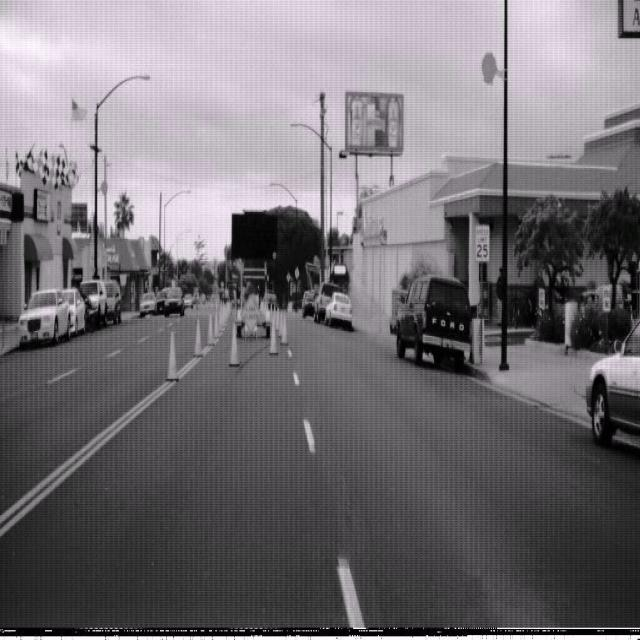speedLimit25: (474, 224, 490, 262)
